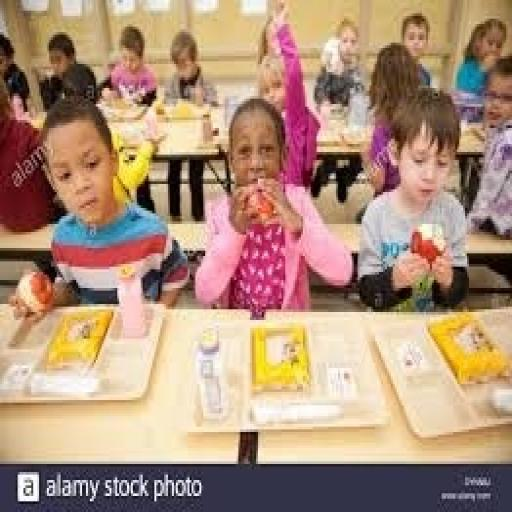eating: (10, 93, 191, 315), (192, 93, 354, 315), (356, 83, 471, 309)
